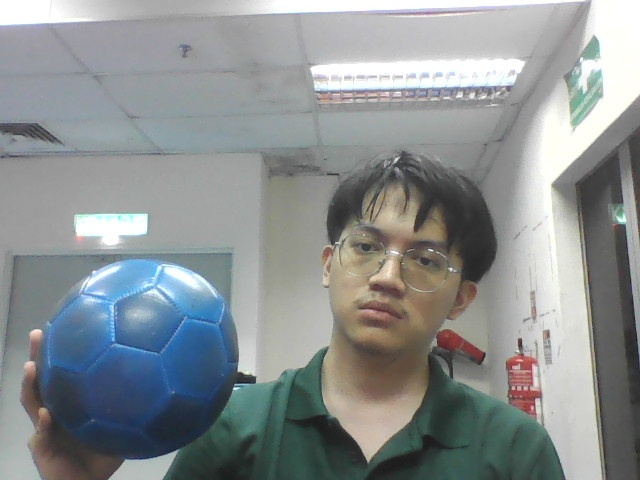Blue: (39, 259, 239, 460)
